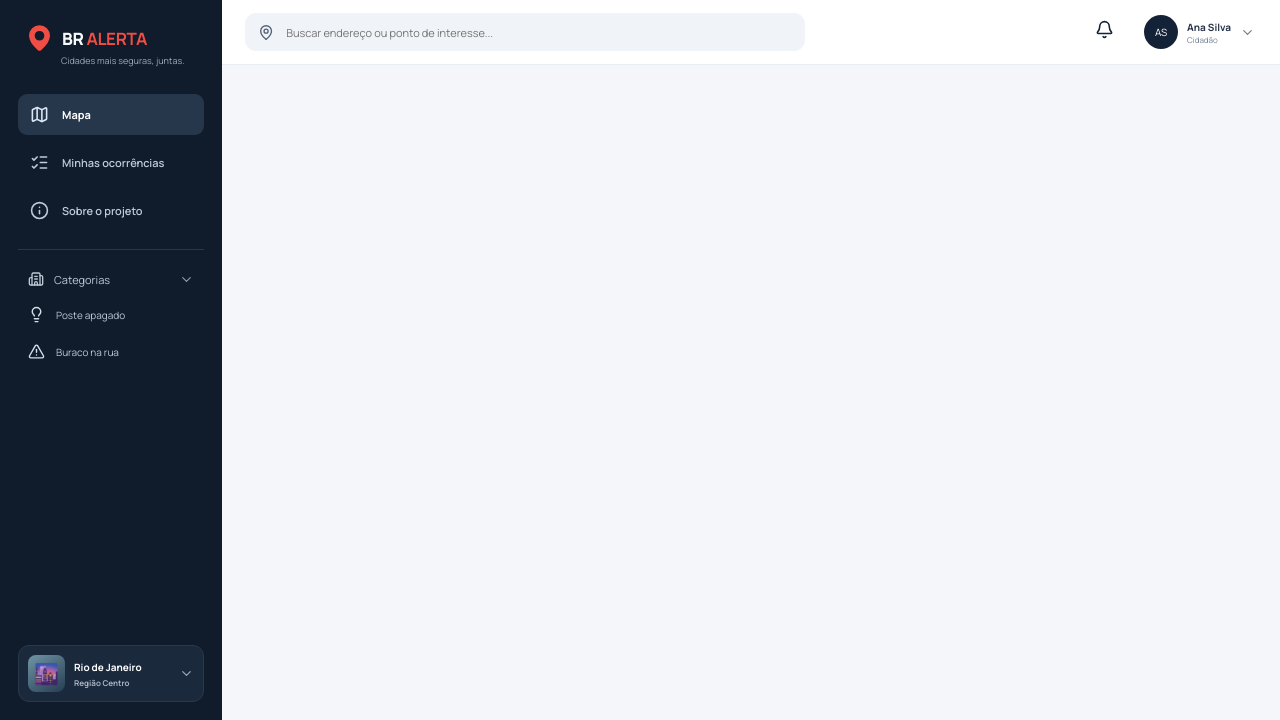
it: notificações no layout principal › informa claramente quando ainda não há notificações
Click the button named "Notificações": (1105, 32) x1=1087 y1=12 x2=1122 y2=52
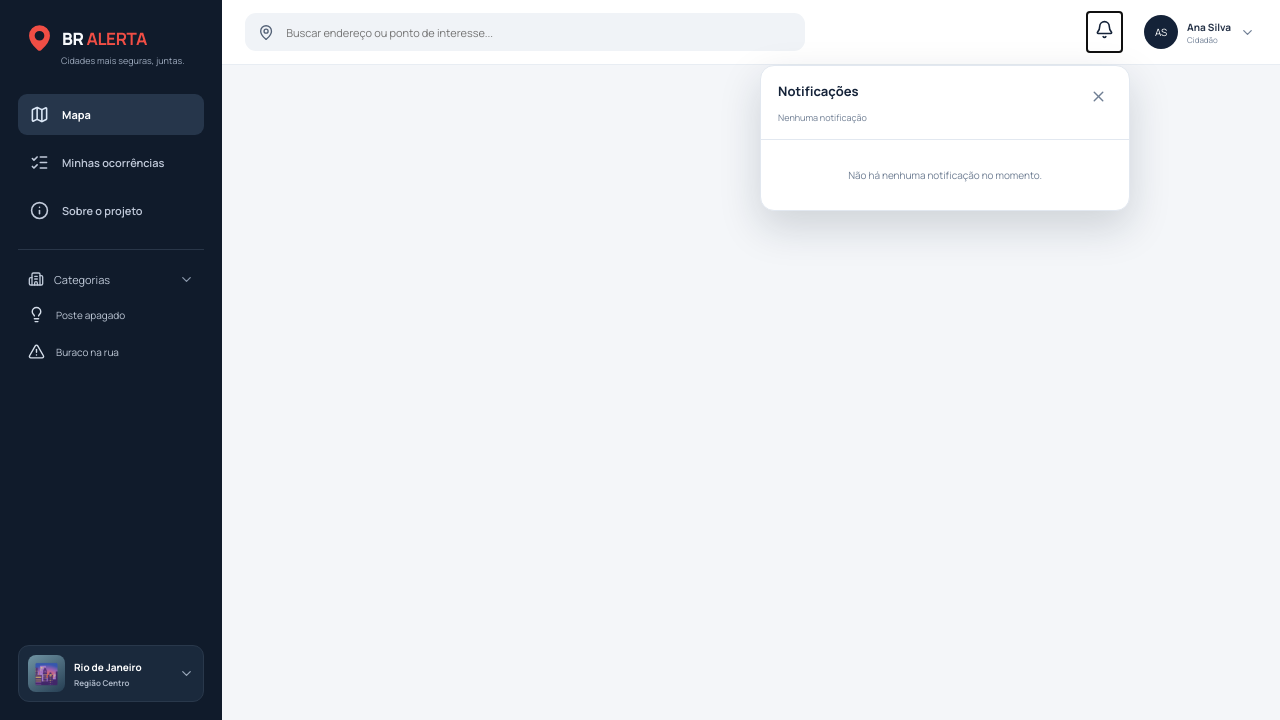
Result: the text "Não há nenhuma notificação no momento." is shown at x1=848 y1=168 x2=1042 y2=182
